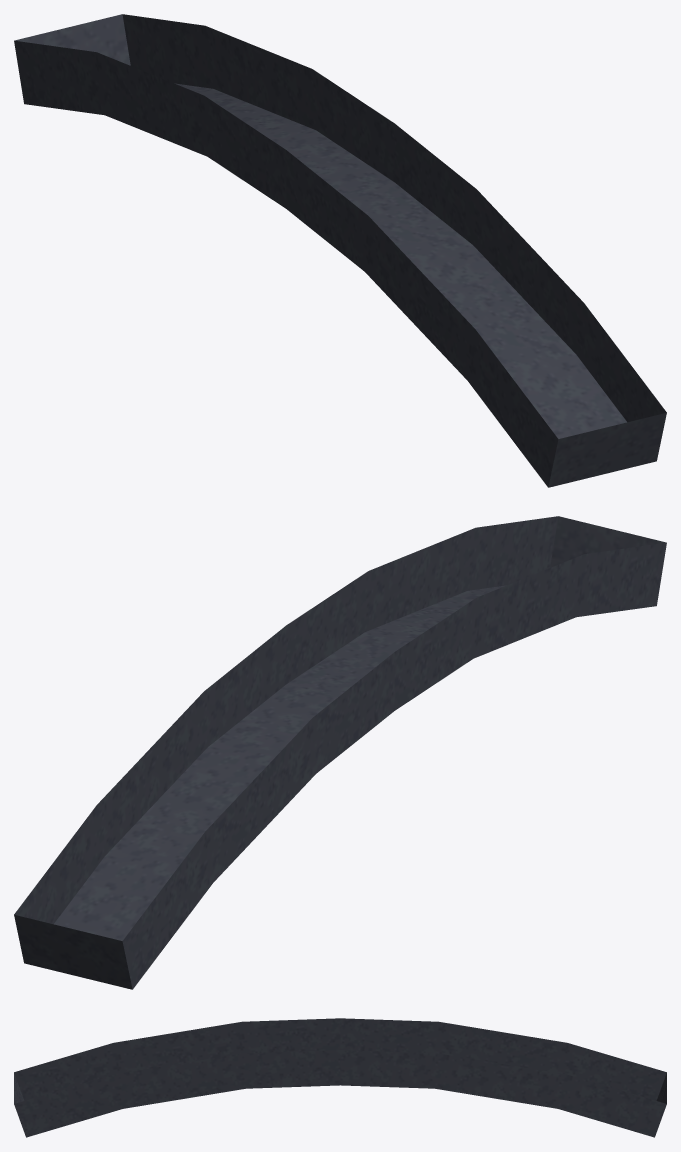
Rendered from IE_Column2.fbx.
3 renders of one model, top to bottom at view 1: azimuth 30°, elevation 25°; view 2: azimuth 150°, elevation 25°; view 3: azimuth 270°, elevation 25°, orthographic. The views are drawn at different scales.
Parts seen in each view (by area): view 1: IE_Column2; view 2: IE_Column2; view 3: IE_Column2.
Part boxes in pixels (bbox=[...]): IE_Column2: bbox=[14, 14, 666, 487]; IE_Column2: bbox=[14, 516, 666, 989]; IE_Column2: bbox=[14, 1018, 666, 1137].
Bounding box in the file's own units: 117 × 150 × 1014.
Materials: 1 (1 with a texture image).
